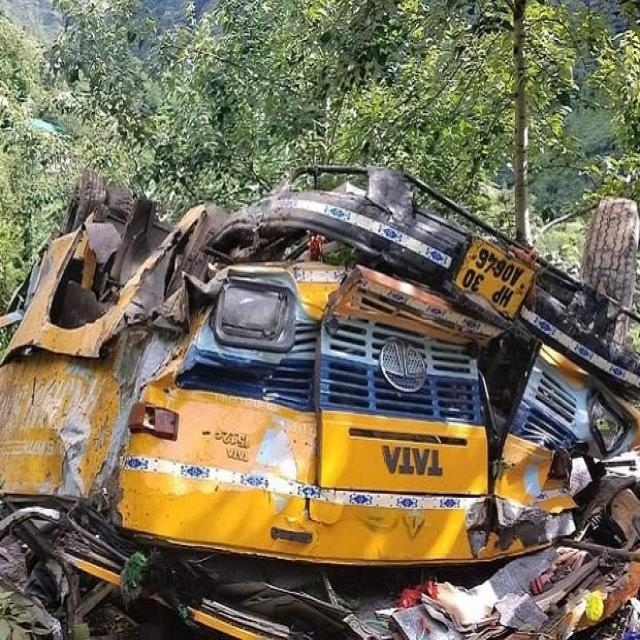accident: (0, 165, 640, 639)
